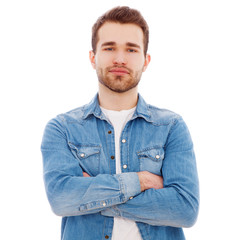young: (82, 10, 152, 94)
